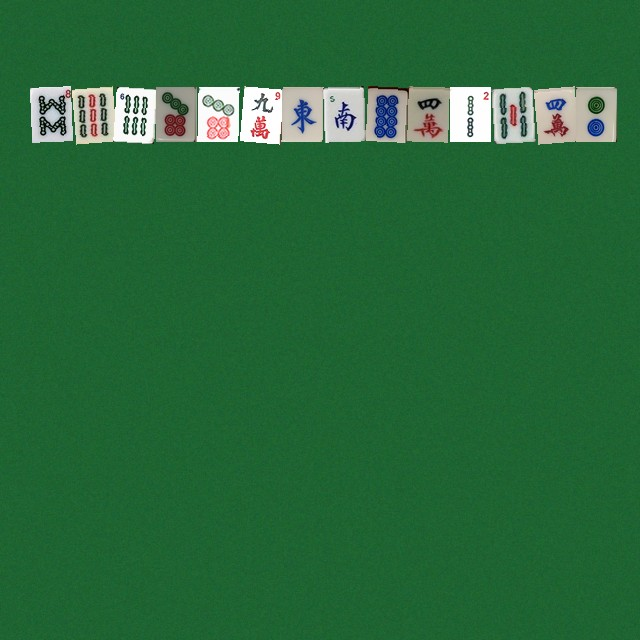tile: (29, 86, 70, 141), (71, 86, 112, 141), (113, 86, 154, 141), (155, 86, 196, 141), (197, 86, 238, 141), (239, 86, 280, 141), (281, 86, 322, 141), (323, 86, 364, 141), (365, 86, 406, 141), (407, 86, 448, 141), (449, 86, 490, 141), (491, 86, 532, 141), (533, 86, 574, 141), (575, 86, 616, 141)
